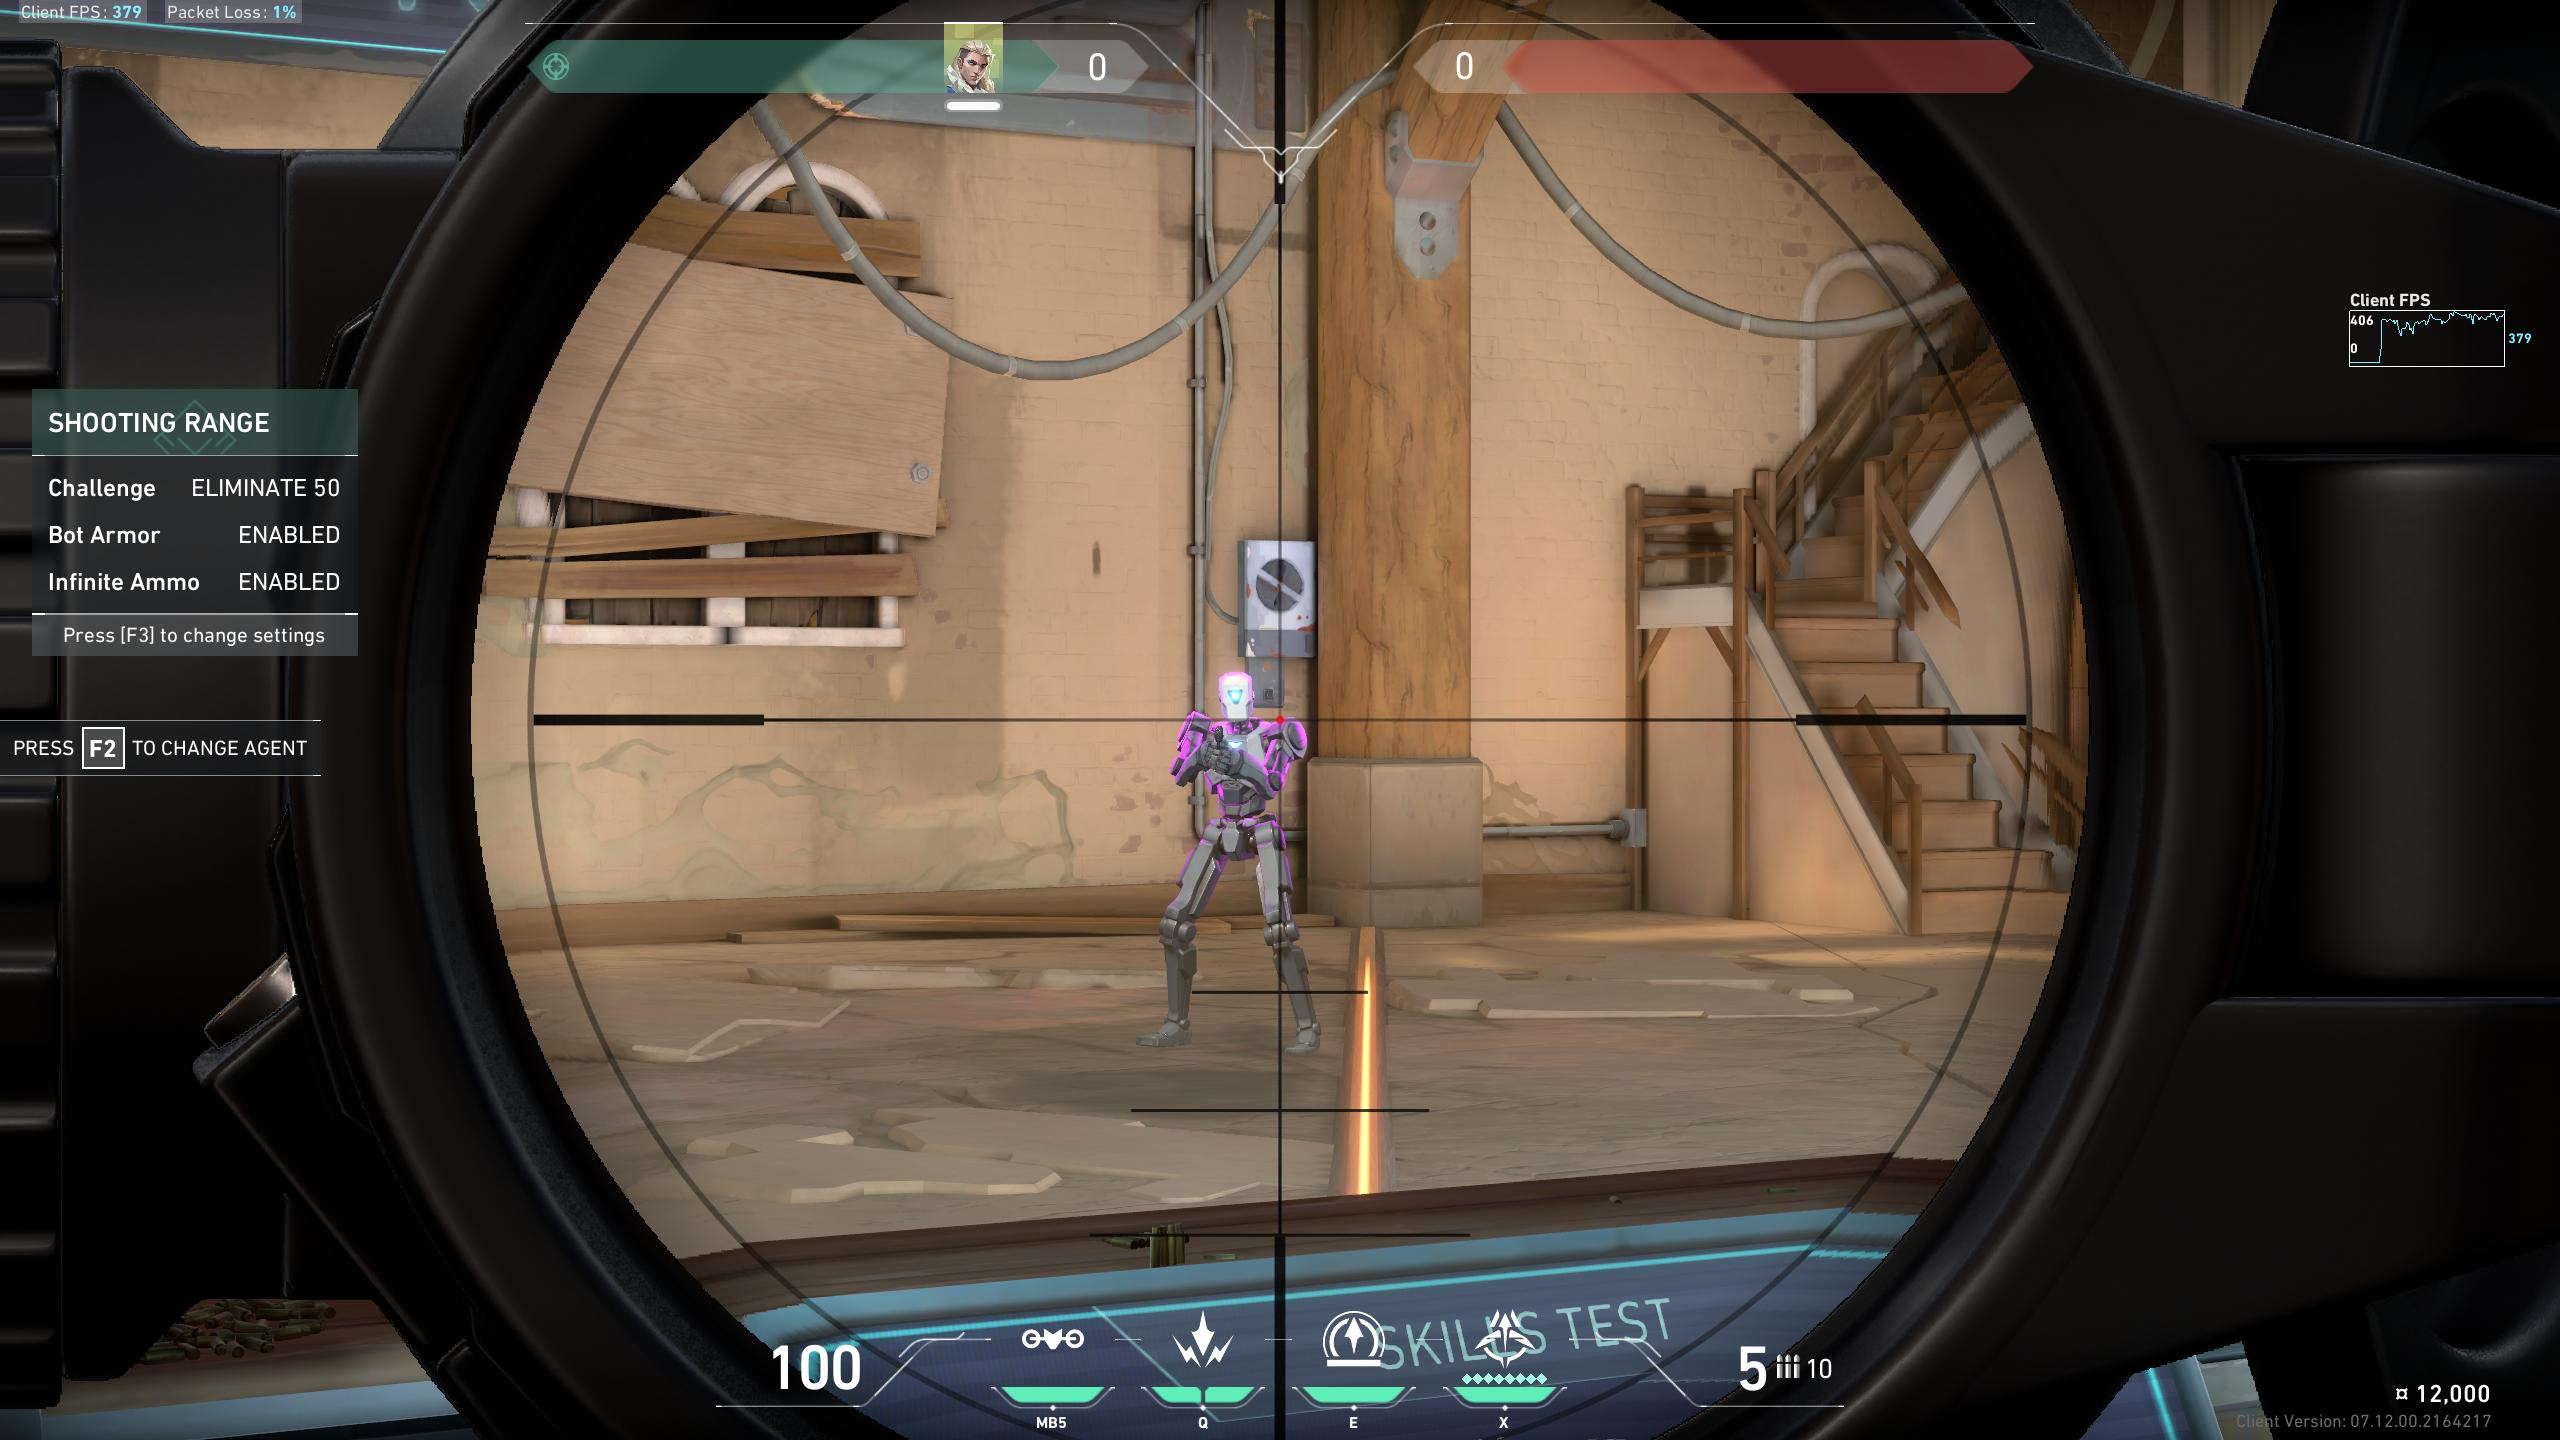enemyBody: (1194, 721, 1282, 832)
